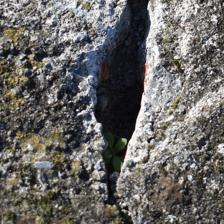Crack: (44, 3, 115, 221)
